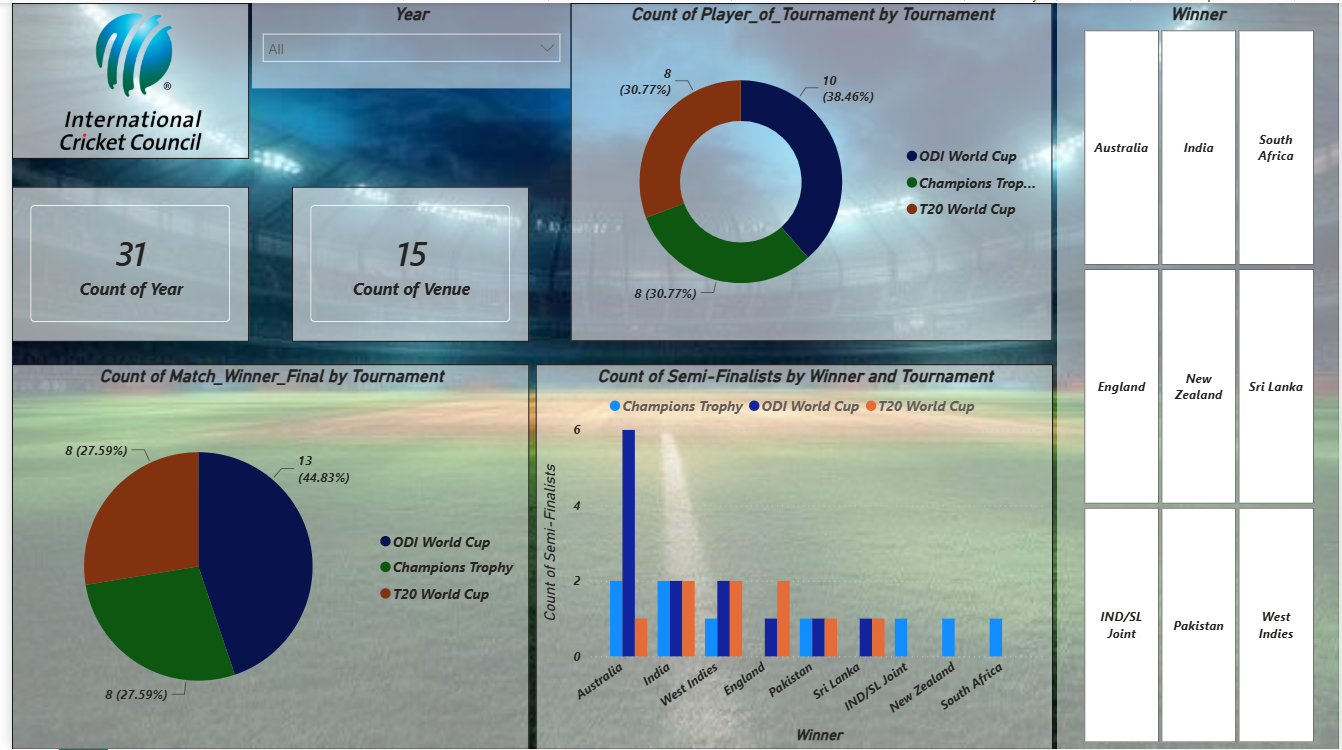

What the dashboard file says about the page in this screenshot:
{"tool":"powerbi","page":{"name":"Page 1","canvas":[1280,720],"ordinal":0},"visuals":[{"type":"cardVisual","fields":{"Data":["CountNonNull(Sheet1.Year)"]},"box":[0,177,229.2,149.6],"z":0},{"type":"cardVisual","fields":{"Data":["Count(Sheet1.Venue)"]},"box":[270.3,177,229.2,149.6],"z":1000},{"type":"pieChart","fields":{"Category":["Sheet1.Tournament"],"Y":["Count(Sheet1.Match_Winner_Final)"]},"box":[0,348.5,499.5,371.9],"z":2000},{"type":"slicer","title":"Winner","fields":{"Values":["Sheet1.Winner"]},"box":[1008.6,0,271.7,720.4],"z":3000},{"type":"slicer","title":"Year","fields":{"Values":["Sheet1.Year"]},"box":[231.9,0,307.4,82.3],"z":4000},{"type":"textbox","box":[0,0,229,150],"z":5000},{"type":"image","box":[0,0,229.2,149.6],"z":6000},{"type":"lineClusteredColumnComboChart","fields":{"Category":["Sheet1.Winner"],"Y":["CountNonNull(Sheet1.Semi-Finalists)"],"Series":["Sheet1.Tournament"]},"box":[505,348.1,499.5,371.9],"z":7000},{"type":"donutChart","fields":{"Y":["Count(Sheet1.Player_of_Tournament)"],"Category":["Sheet1.Tournament"]},"box":[539.3,0,465.2,326.6],"z":7001}]}

Visuals, with their boxes in screenshot pixels (x1, y1, x2, y2), scaled from the page's 1280x720 canvas onto the 1342x750 screenshot:
cardVisual - CountNonNull(Sheet1.Year): 0,184,240,340
cardVisual - Count(Sheet1.Venue): 283,184,524,340
pieChart - Sheet1.Tournament x Count(Sheet1.Match_Winner_Final): 0,363,524,749
"Winner" slicer: 1057,0,1341,749
"Year" slicer: 243,0,565,86
textbox: 0,0,240,156
image: 0,0,240,156
lineClusteredColumnComboChart - Sheet1.Winner x CountNonNull(Sheet1.Semi-Finalists): 529,363,1053,749
donutChart - Count(Sheet1.Player_of_Tournament) x Sheet1.Tournament: 565,0,1053,340
